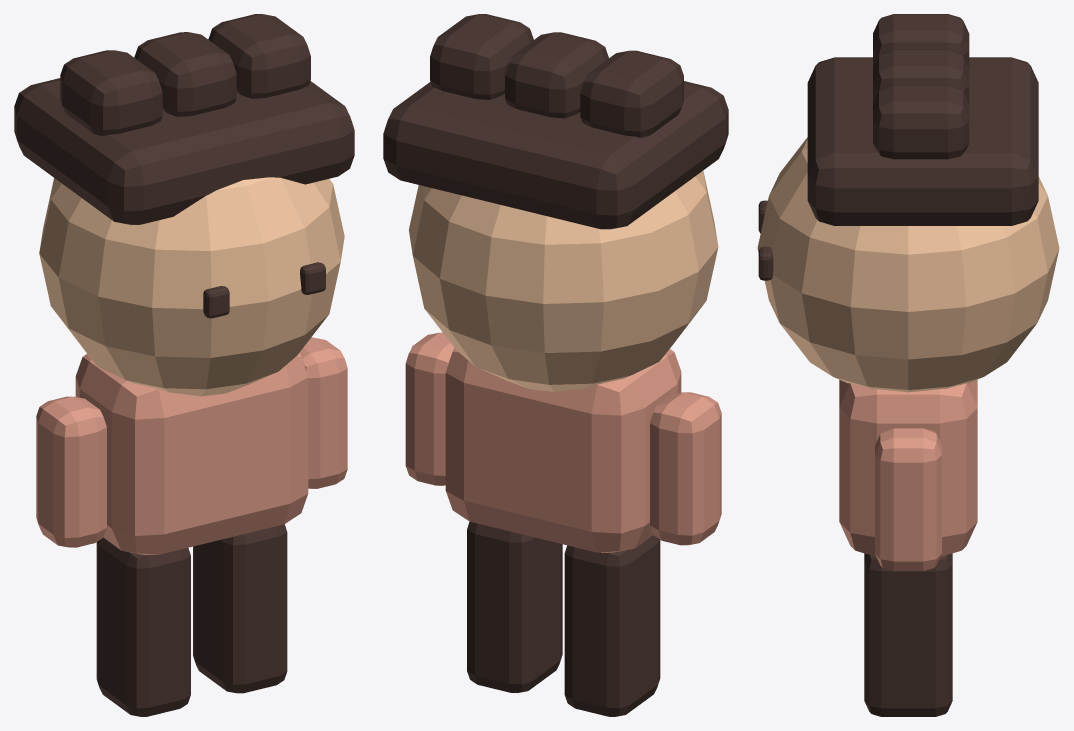
File: kar_warga_kevin.fbx
The picture shows the model from 3 angles, left to right: view 1: azimuth 30°, elevation 25°; view 2: azimuth 150°, elevation 25°; view 3: azimuth 270°, elevation 25°; orthographic projection. The views are drawn at different scales.
Visible parts, largest first — view 1: kar_warga_kevin; view 2: kar_warga_kevin; view 3: kar_warga_kevin.
Boxes of the visible parts, left/top/right/bottom form: kar_warga_kevin: left=14, top=14, right=354, bottom=716; kar_warga_kevin: left=383, top=14, right=728, bottom=716; kar_warga_kevin: left=757, top=14, right=1059, bottom=716.
Bounding box in the file's own units: 79 × 165 × 72.
1 material, 1 textured.
